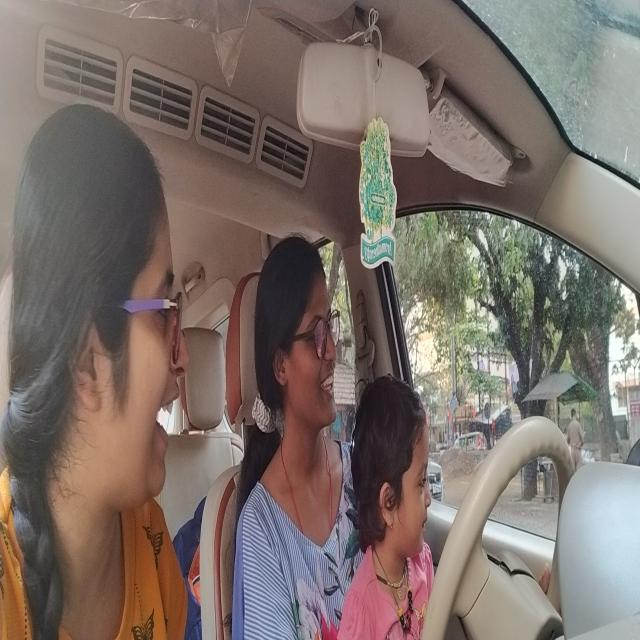child: (352, 373, 436, 567)
person: (5, 100, 195, 510), (250, 233, 345, 472)
